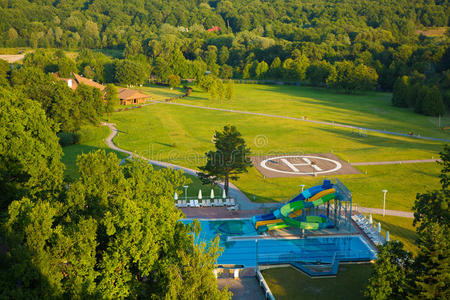Apron: (260, 155, 342, 175)
